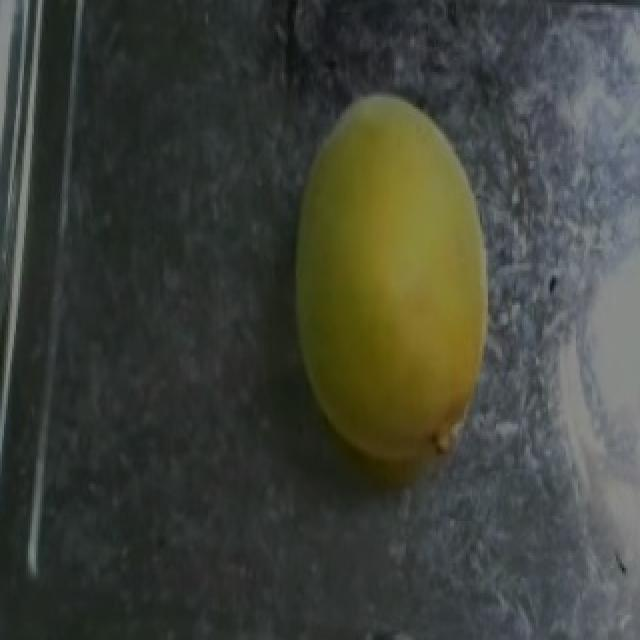fruit: (266, 72, 546, 459)
